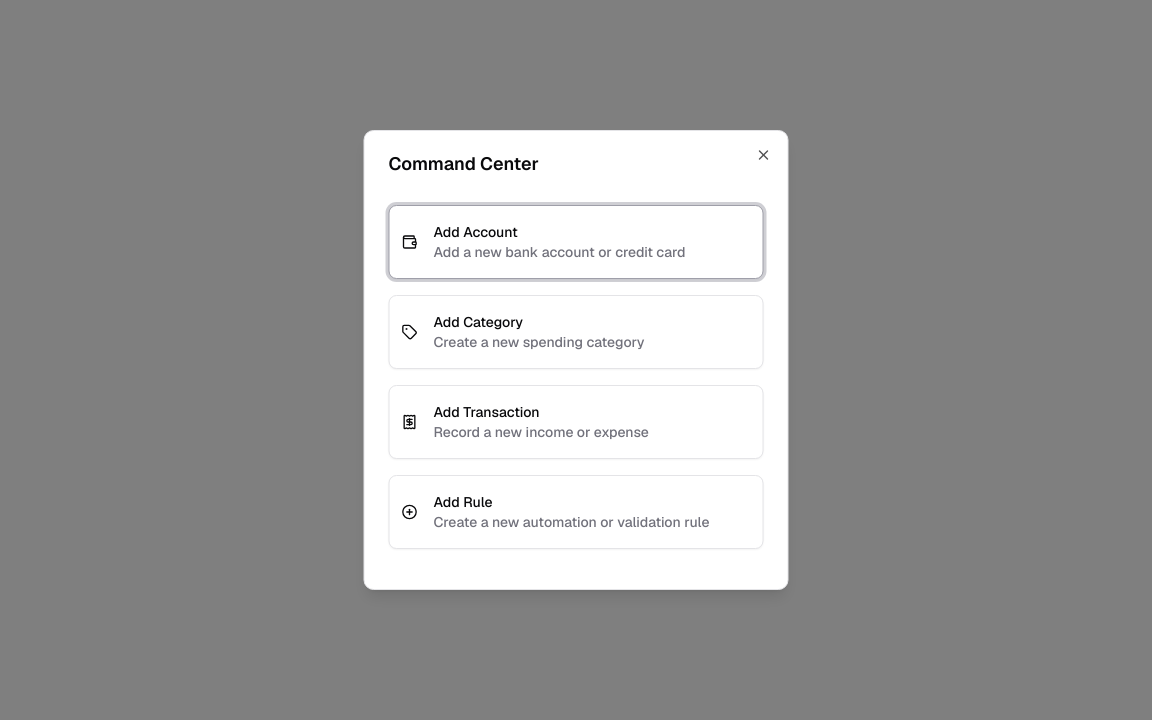
Test: CommandCenterModal › opens the transaction form
The image size is (1152, 720).
What coordinates should you click on to do the following:
click the button "Add Transaction Record a new income or expense"
I would click on:
 (576, 422)
Its box is [388,385,764,459].
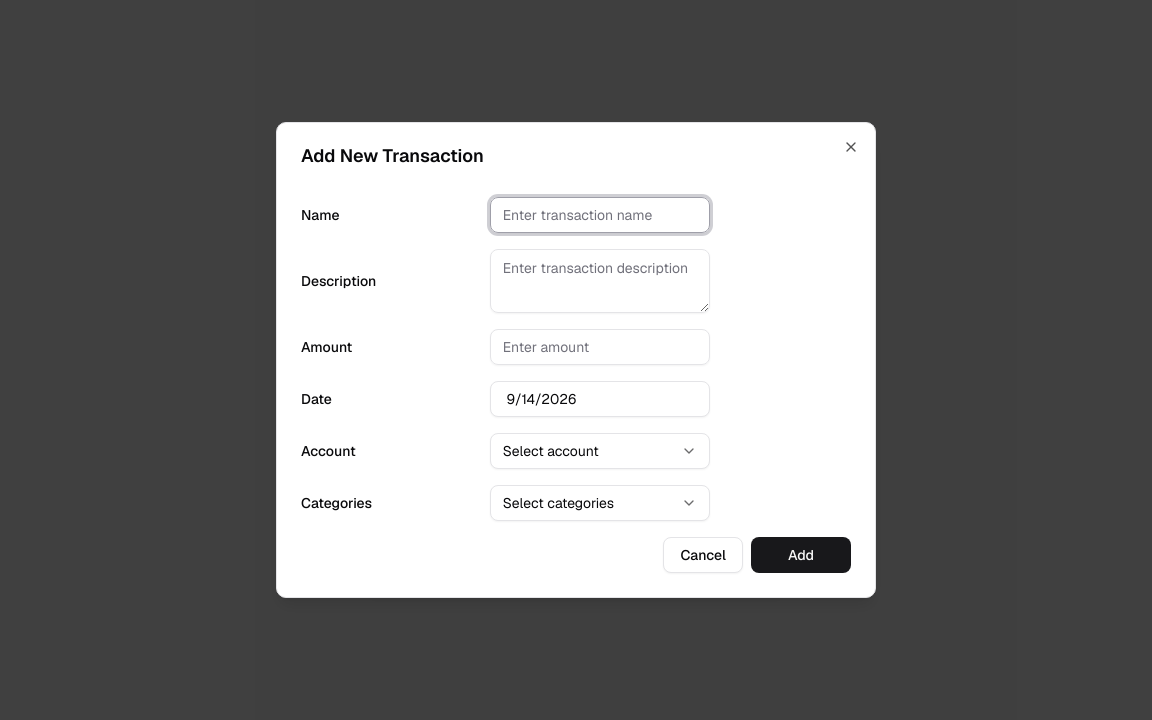
Expected: the dialog "Add New Transaction" is shown, [276,122,876,598]
